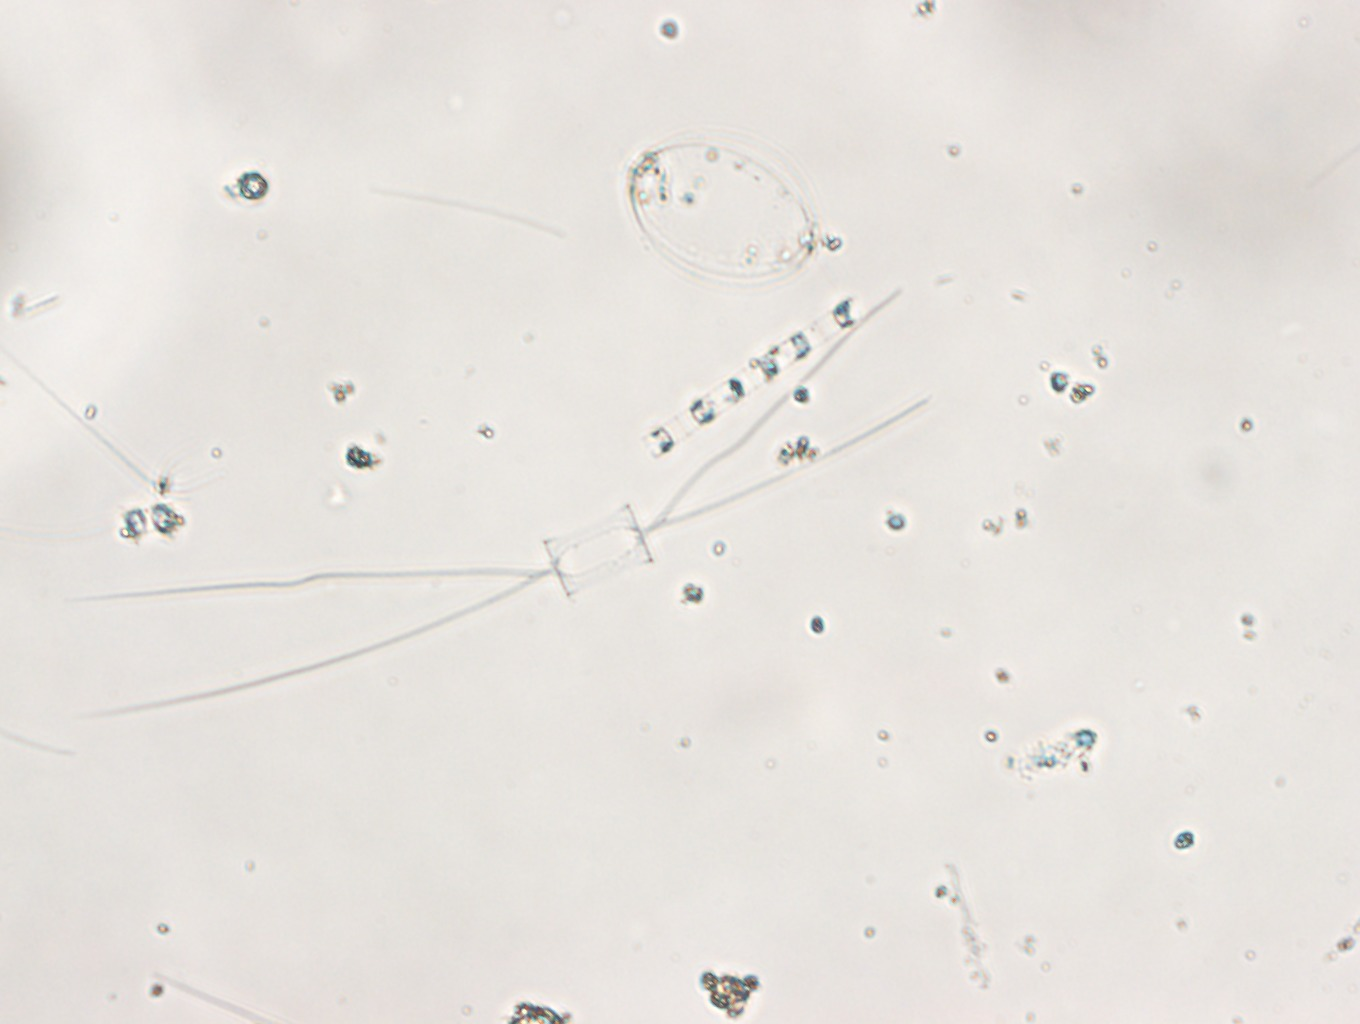chaetoceros: (62, 284, 924, 719)
skeletonema: (653, 288, 903, 447)
